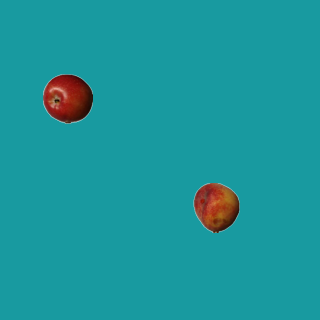Apple Braeburn: (42, 73, 92, 123)
Peach: (191, 182, 241, 232)
